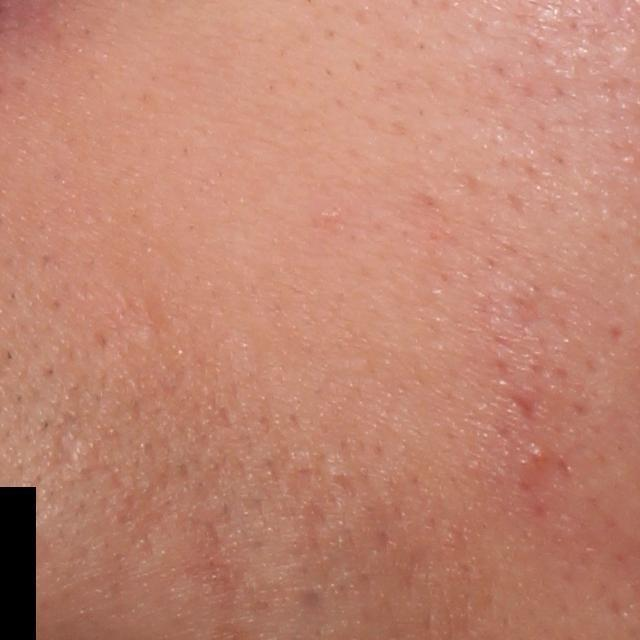atrophic_scar: (47, 407, 83, 478), (506, 392, 544, 426)
comedo: (526, 442, 544, 461)
